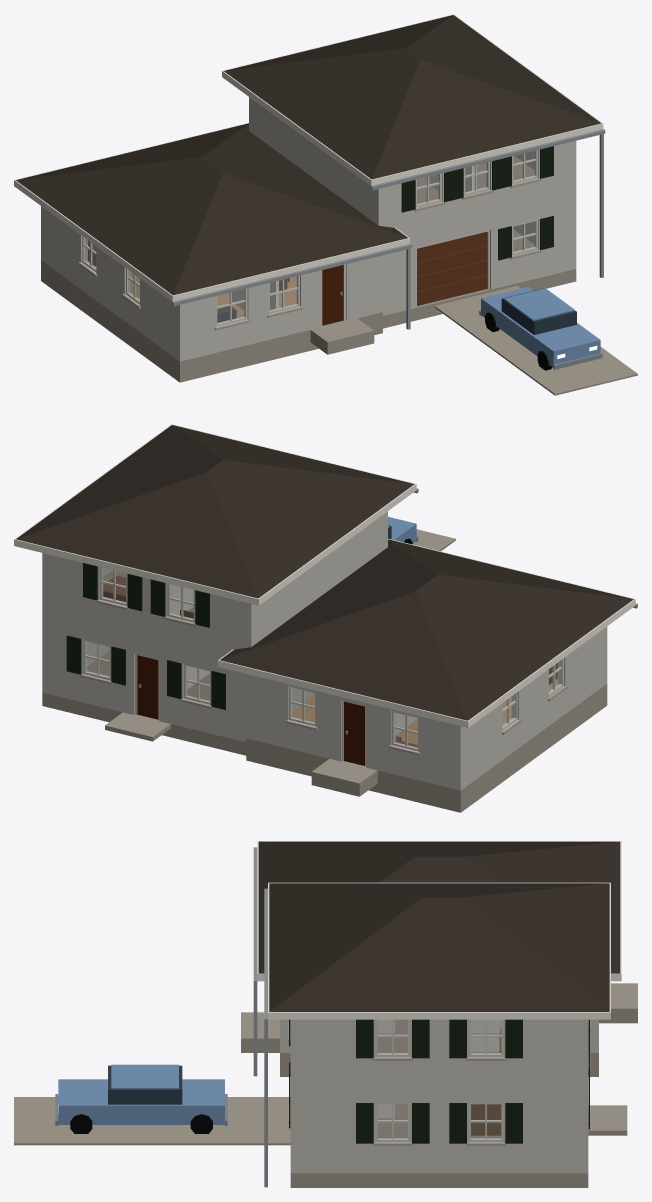
File: split_b.glb
3 views of the same model, one above another, from view 1: azimuth 30°, elevation 25°; view 2: azimuth 150°, elevation 25°; view 3: azimuth 270°, elevation 25° (orthographic). The views are drawn at different scales.
Parts seen in each view (by area): view 1: LOD0, LEAF0; view 2: LOD0, LEAF2, LEAF1, FURN; view 3: LOD0.
Part boxes in pixels (x1,y1,x2,y2): LOD0: [14, 14, 637, 395]; LEAF0: [322, 265, 343, 325]; LOD0: [14, 424, 637, 812]; LEAF2: [137, 655, 158, 719]; LEAF1: [344, 701, 364, 765]; FURN: [103, 575, 557, 747]; LOD0: [14, 841, 637, 1187].
Size of what is drawn, in the model's own units: 16.32 by 7.3 by 17.6.
